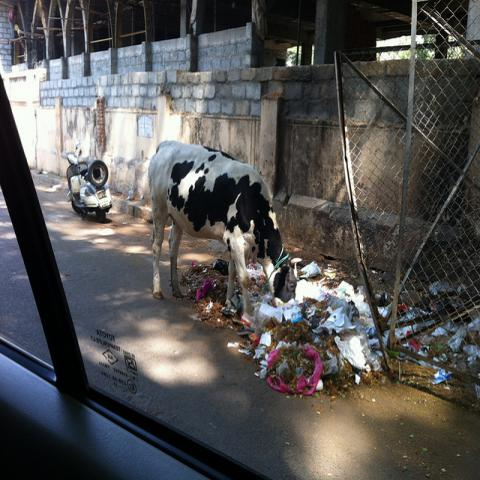motorcycle: (66, 140, 112, 222)
